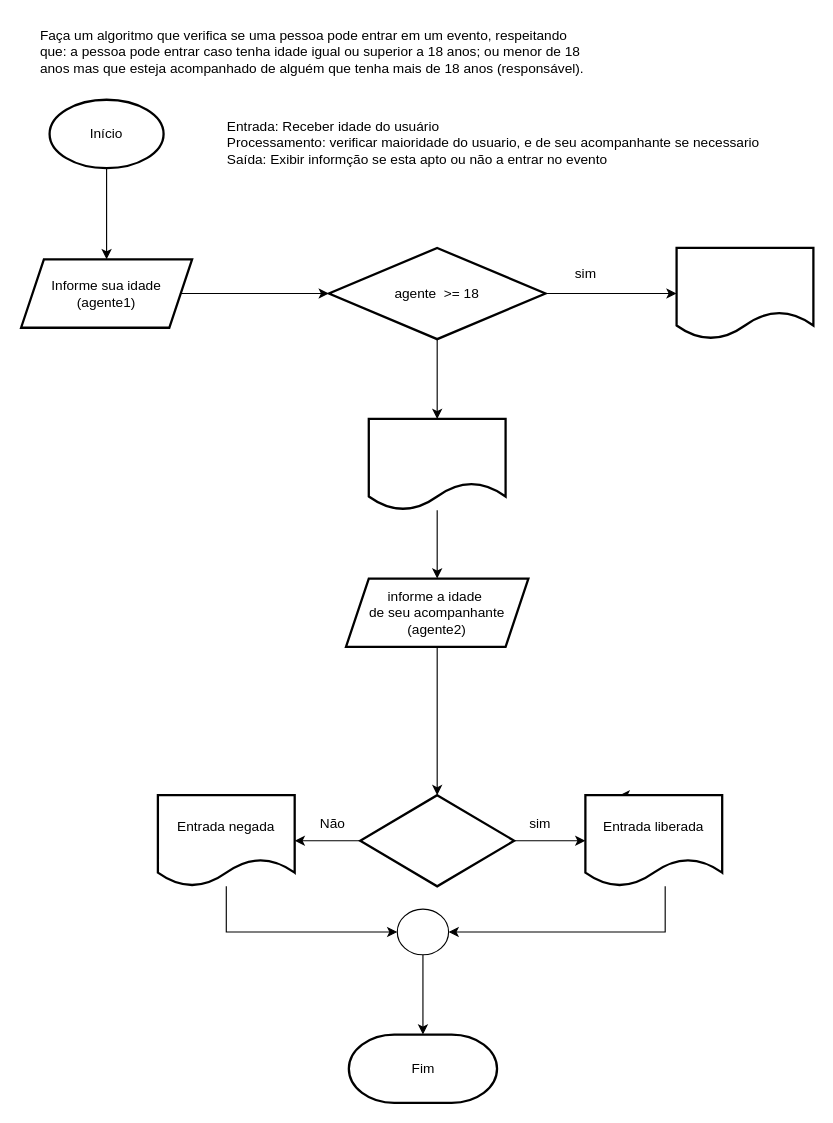
The diagram is 833 pixels wide and 1123 high, and some of its shapes have lost their labels. Here are the shapes that lost their labels. From the top down, the centre of each, then its label:
At point 744,293: "Entrada autorizada".
At point 436,464: "Entrada permitida apenas com acompanhante".
At point 437,840: "agente2 >= 18".
